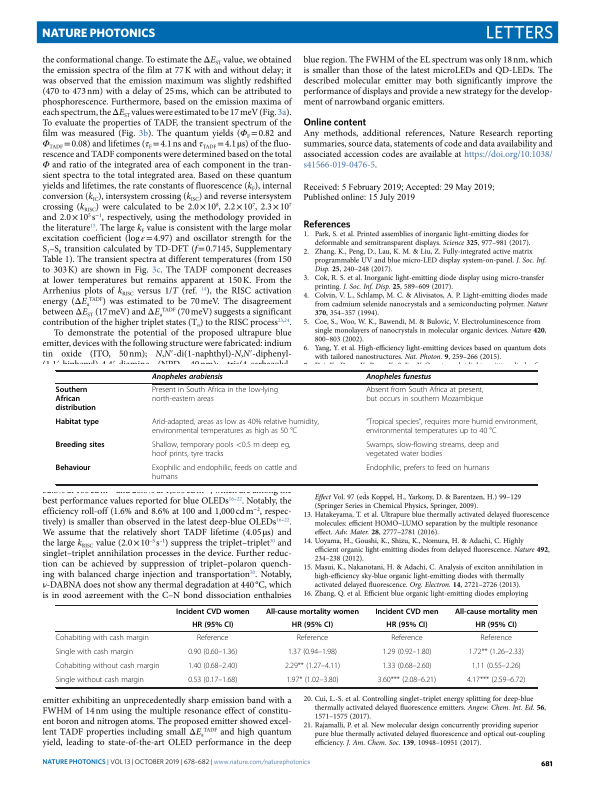borderless: (54, 369, 537, 484), (54, 603, 537, 687)
cell: (365, 418, 538, 437), (151, 418, 320, 437), (151, 464, 298, 483), (151, 441, 291, 460), (365, 441, 500, 460), (151, 386, 279, 405), (365, 386, 484, 405), (365, 464, 490, 474), (54, 386, 97, 414), (54, 661, 160, 671), (54, 633, 150, 643), (55, 675, 145, 685), (265, 607, 360, 616), (54, 647, 134, 657), (454, 607, 538, 616), (175, 607, 250, 616), (151, 373, 224, 382), (365, 373, 432, 382), (377, 675, 437, 685), (466, 675, 526, 685), (374, 607, 439, 616), (468, 647, 525, 657), (284, 661, 341, 671), (285, 675, 339, 685), (54, 441, 106, 451), (187, 647, 238, 657), (287, 647, 338, 657), (381, 647, 432, 657), (187, 661, 238, 671), (381, 661, 432, 671), (471, 661, 522, 671), (187, 675, 238, 685), (54, 418, 100, 428), (191, 620, 234, 630), (291, 620, 334, 630), (385, 620, 428, 630), (475, 620, 518, 630), (54, 464, 91, 474), (390, 633, 424, 643), (479, 633, 513, 643), (196, 633, 229, 643), (296, 633, 329, 643)
